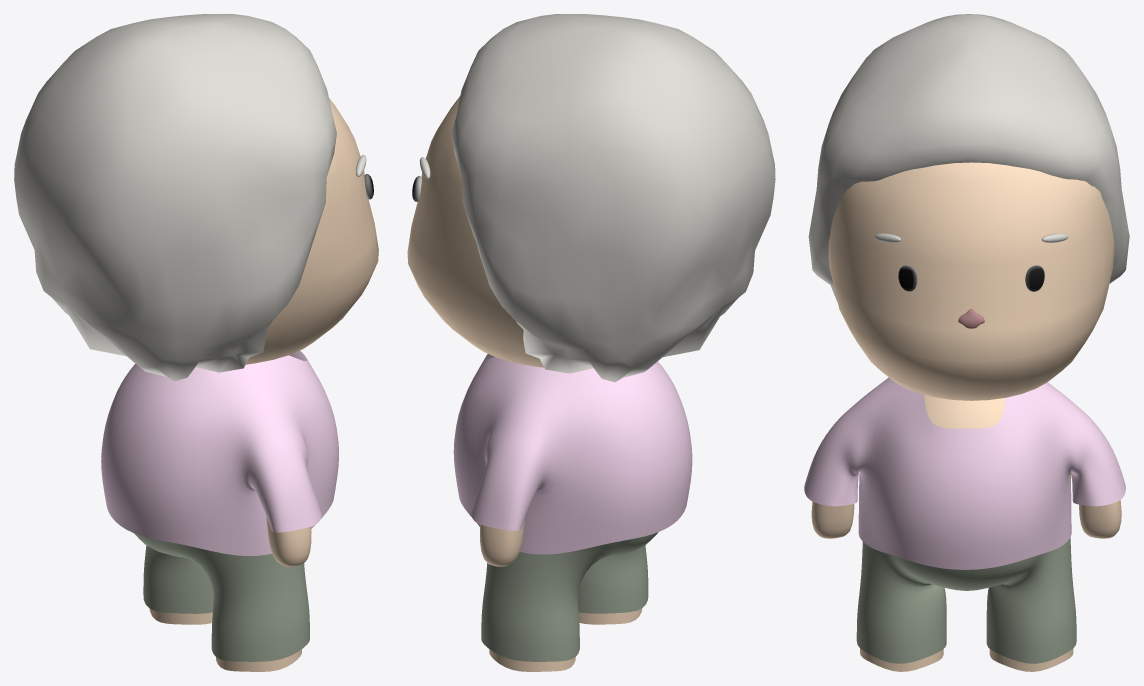
Rendered from boy.dae.
3 views of the same model, side by side, from view 1: azimuth 30°, elevation 25°; view 2: azimuth 150°, elevation 25°; view 3: azimuth 270°, elevation 25° (orthographic). The views are drawn at different scales.
Visible parts, largest first — view 1: Sphere.006, Cube.013, Cube.001, Sphere.001, Cube.004; view 2: Sphere.006, Cube.013, Cube.001, Sphere.001, Cube.004; view 3: Sphere.001, Cube.013, Sphere.006, Cube.001, Cube.004.
Boxes of the visible parts, <box> form: Sphere.006: <box>14,14,336,381</box>; Cube.013: <box>101,350,338,555</box>; Cube.001: <box>134,533,309,661</box>; Sphere.001: <box>246,98,378,364</box>; Cube.004: <box>149,515,311,671</box>; Sphere.006: <box>451,14,775,382</box>; Cube.013: <box>453,354,692,554</box>; Cube.001: <box>478,524,658,661</box>; Sphere.001: <box>407,96,543,367</box>; Cube.004: <box>480,519,642,671</box>; Sphere.001: <box>828,162,1114,400</box>; Cube.013: <box>804,377,1125,569</box>; Sphere.006: <box>808,14,1129,301</box>; Cube.001: <box>856,538,1076,663</box>; Cube.004: <box>811,395,1121,671</box>.
Bounding box in the file's own units: 1.25 × 1.12 × 2.29.
